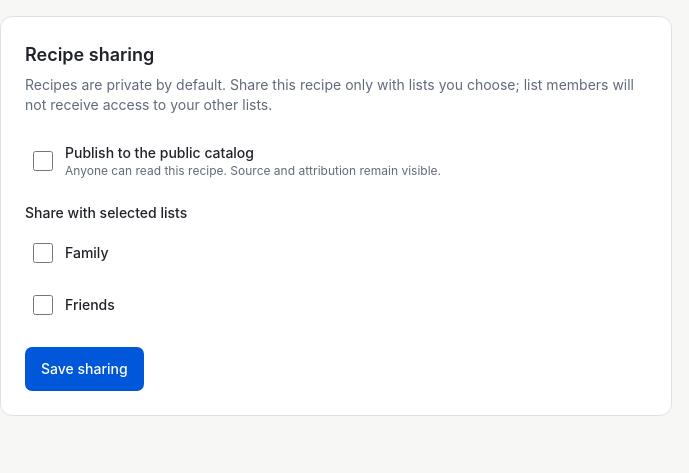
Test case: RecipeSharing › shares a usable authored recipe with the selected active lists
The width and height of the screenshot is (689, 473).
Click the checkbox labelled "Family" at (43, 253), box [33,231,53,275]
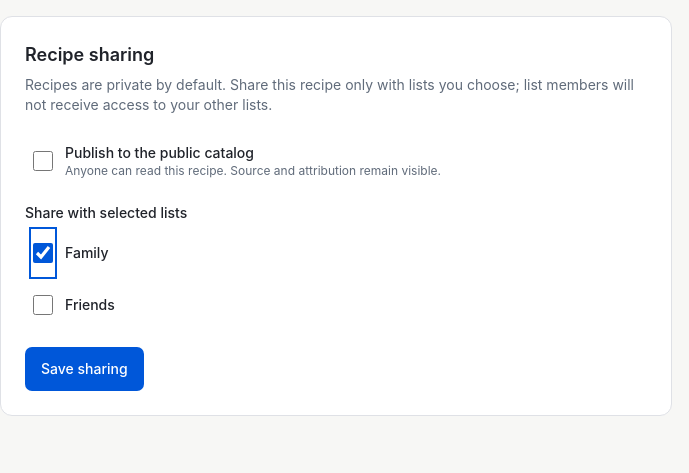
Click the button "Save sharing" at (84, 369), box [25,347,144,391]
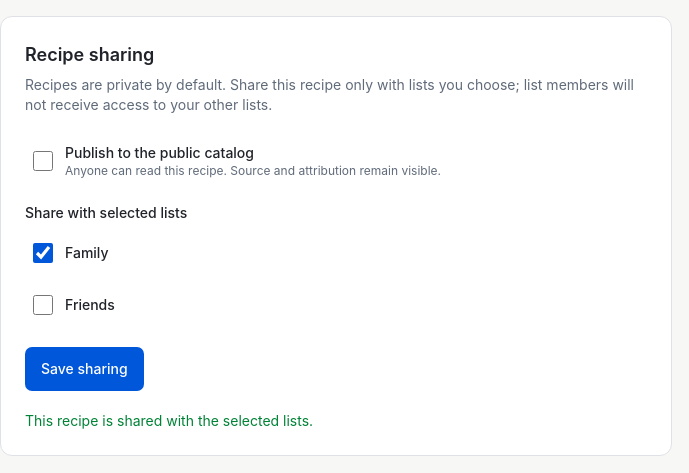
Result: the text "This recipe is shared with the selected lists." is shown at [25,412,313,429]
